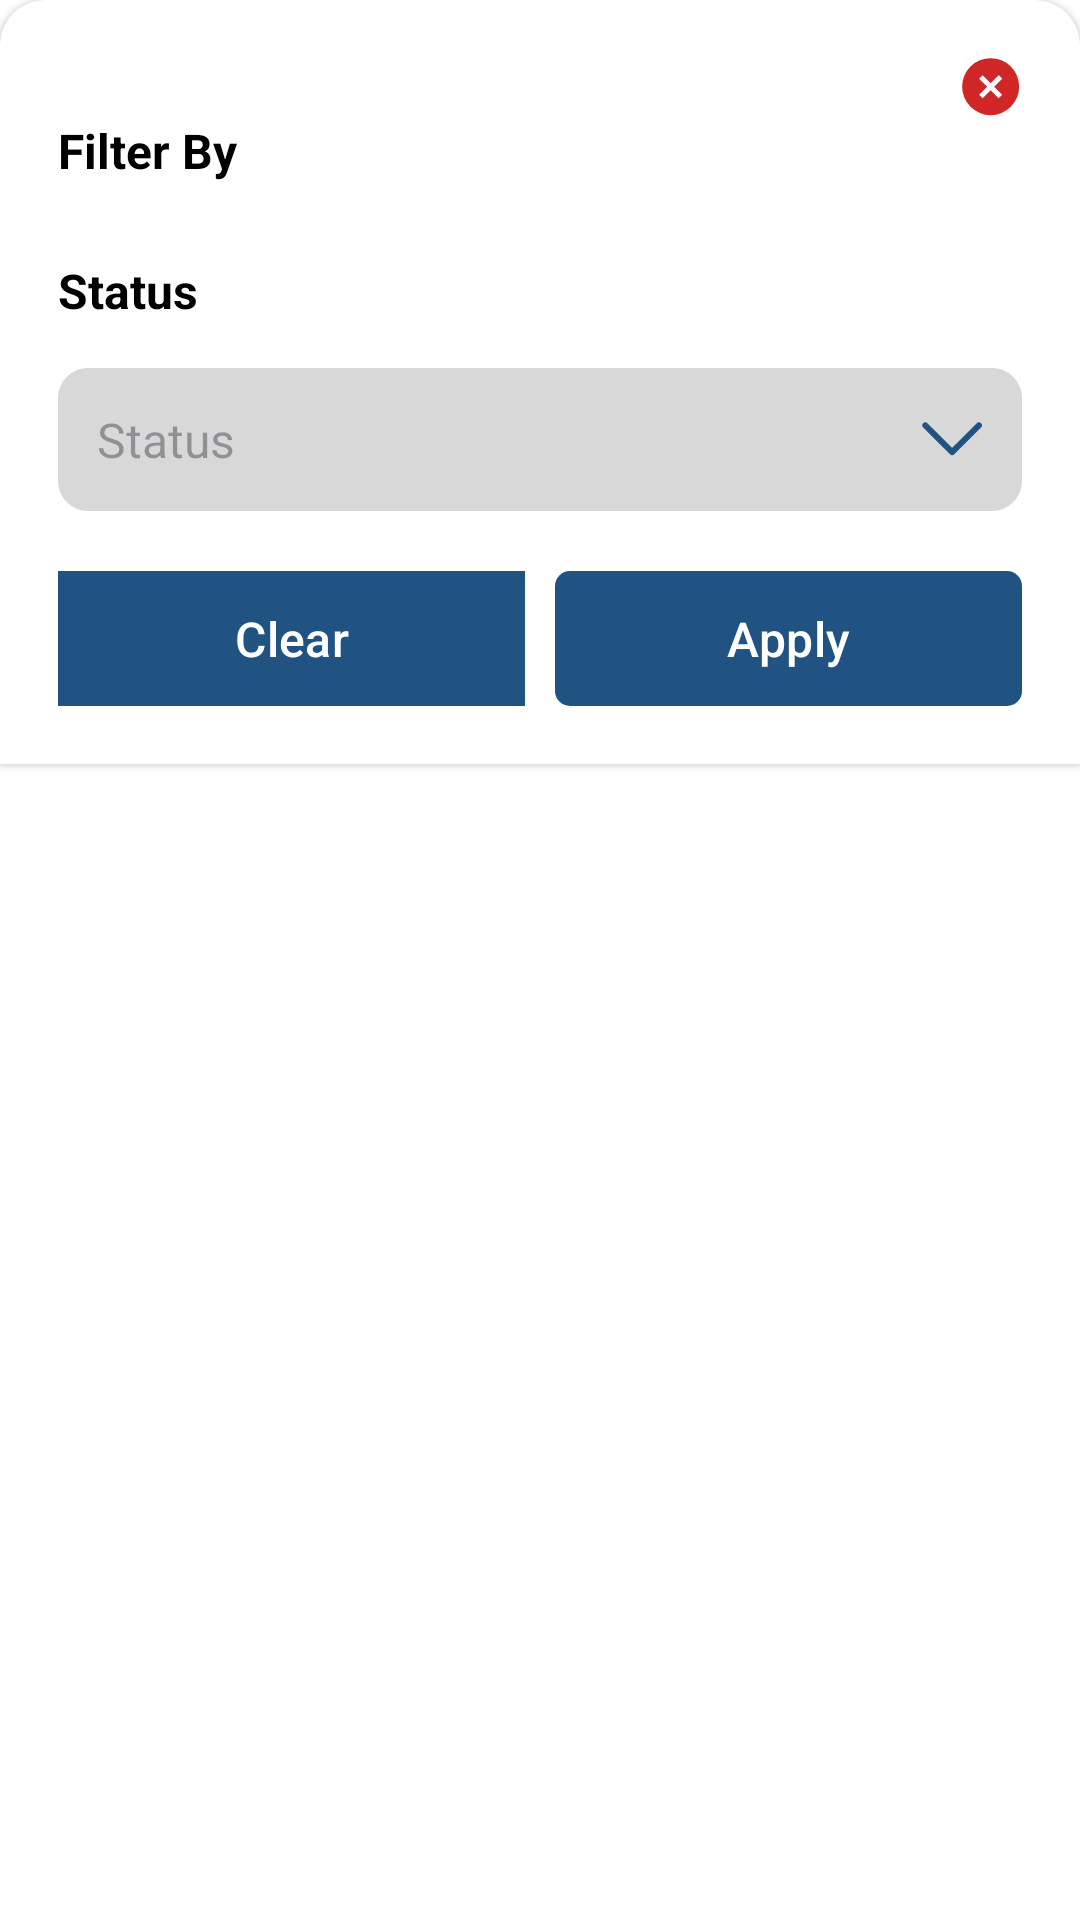

Where icons sit on this 1080px x 1920px app screen, as (x1, y1, x2, y2):
cancel: (962, 58, 1019, 116)
